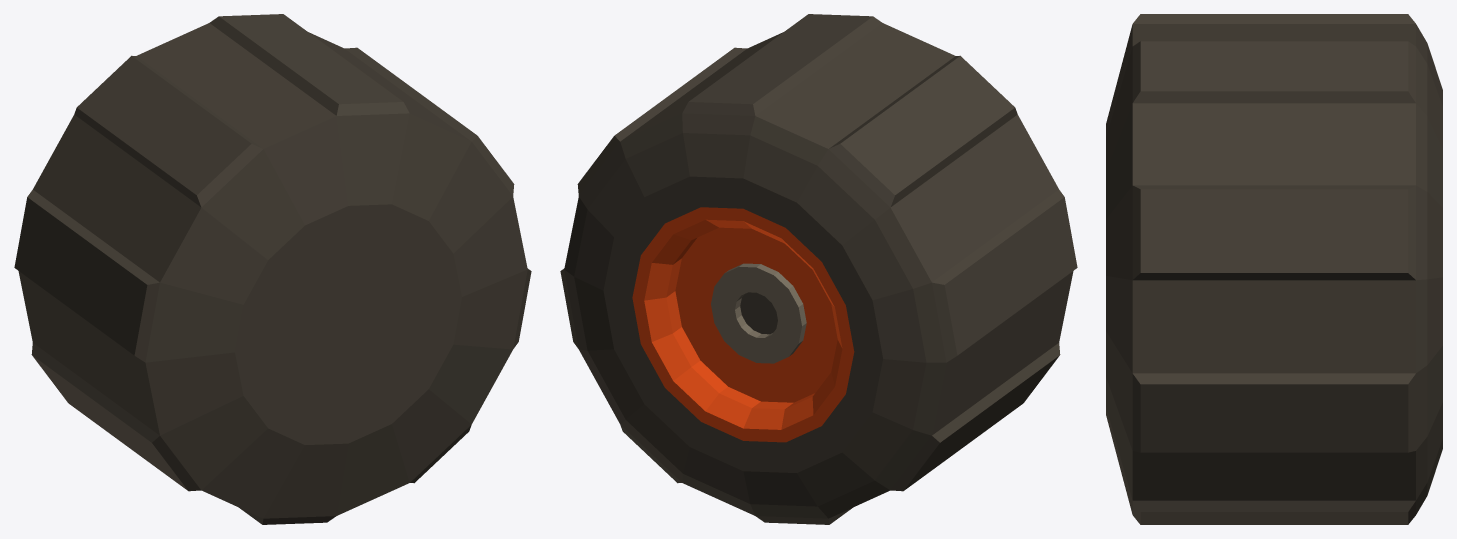
Rendered from wheel.glb.
The picture shows the model from 3 angles, left to right: view 1: azimuth 30°, elevation 25°; view 2: azimuth 150°, elevation 25°; view 3: azimuth 270°, elevation 25°; orthographic projection. The views are drawn at different scales.
Parts seen in each view (by area): view 1: wheel; view 2: wheel; view 3: wheel.
Boxes of the visible parts, x1=… form: wheel: x1=14, y1=14, x2=531, y2=524; wheel: x1=560, y1=14, x2=1077, y2=524; wheel: x1=1106, y1=14, x2=1442, y2=524.
Size of the model in its own units: 0.8203 by 0.8203 by 0.5407.
